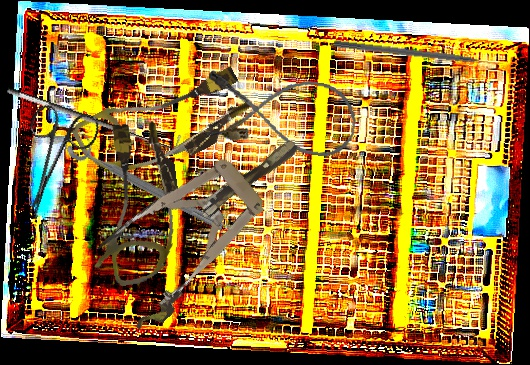Cannula: (69, 47, 260, 201), (93, 118, 191, 287), (199, 65, 361, 161)
Fixation Ring: (64, 128, 232, 236)
Hook Surgical: (5, 73, 184, 158)
Iris Scissors: (1, 97, 103, 230)
Pusher: (333, 39, 503, 70)
Speculum: (80, 106, 329, 338)
